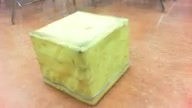cube: (29, 10, 130, 105)
